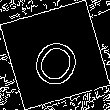O_NE: (24, 22, 86, 88)
